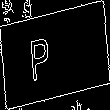P_N: (43, 28, 67, 82)
